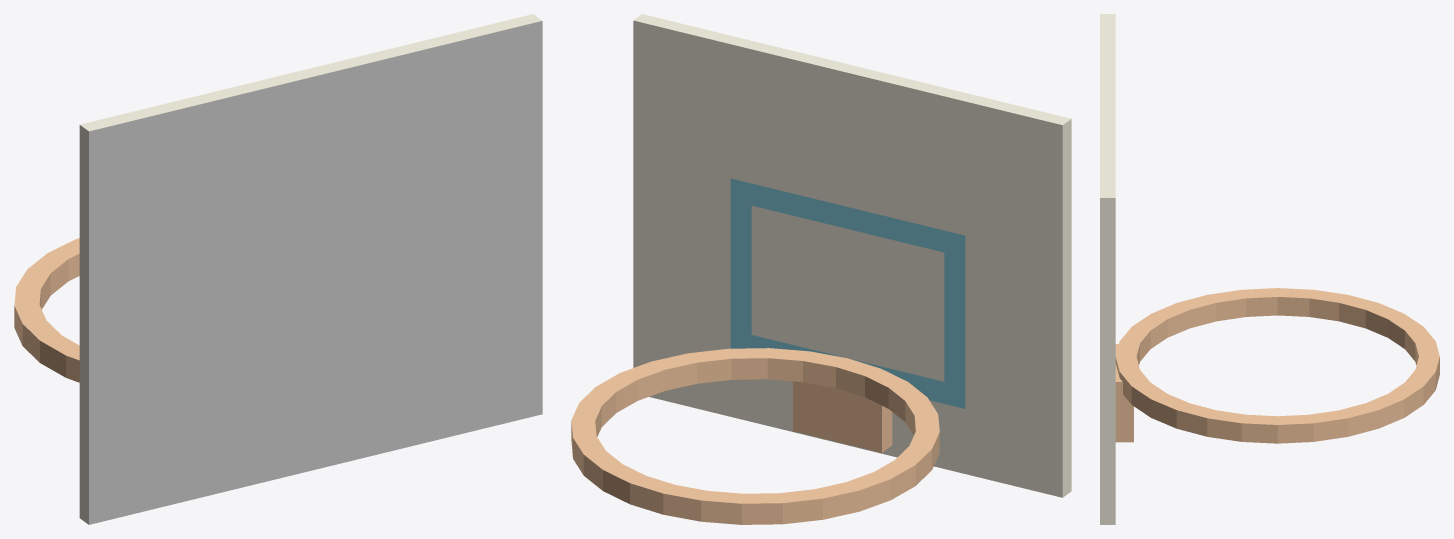
Rendered from BasketBall Hoop.fbx.
3 renders of one model, left to right at view 1: azimuth 30°, elevation 25°; view 2: azimuth 150°, elevation 25°; view 3: azimuth 270°, elevation 25°, orthographic. The views are drawn at different scales.
Visible parts, largest first — view 1: BasketBall Backboard, BasketBall Hoop; view 2: BasketBall Backboard, BasketBall Hoop; view 3: BasketBall Hoop, BasketBall Backboard.
Part boxes in pixels (x1=…): BasketBall Backboard: x1=79, y1=14, x2=542, y2=524; BasketBall Hoop: x1=14, y1=238, x2=79, y2=382; BasketBall Backboard: x1=633, y1=14, x2=1071, y2=497; BasketBall Hoop: x1=571, y1=348, x2=939, y2=524; BasketBall Hoop: x1=1115, y1=288, x2=1439, y2=443; BasketBall Backboard: x1=1100, y1=14, x2=1133, y2=524.
Size of the model in its own units: 0.1556 by 0.129 by 0.1215.
